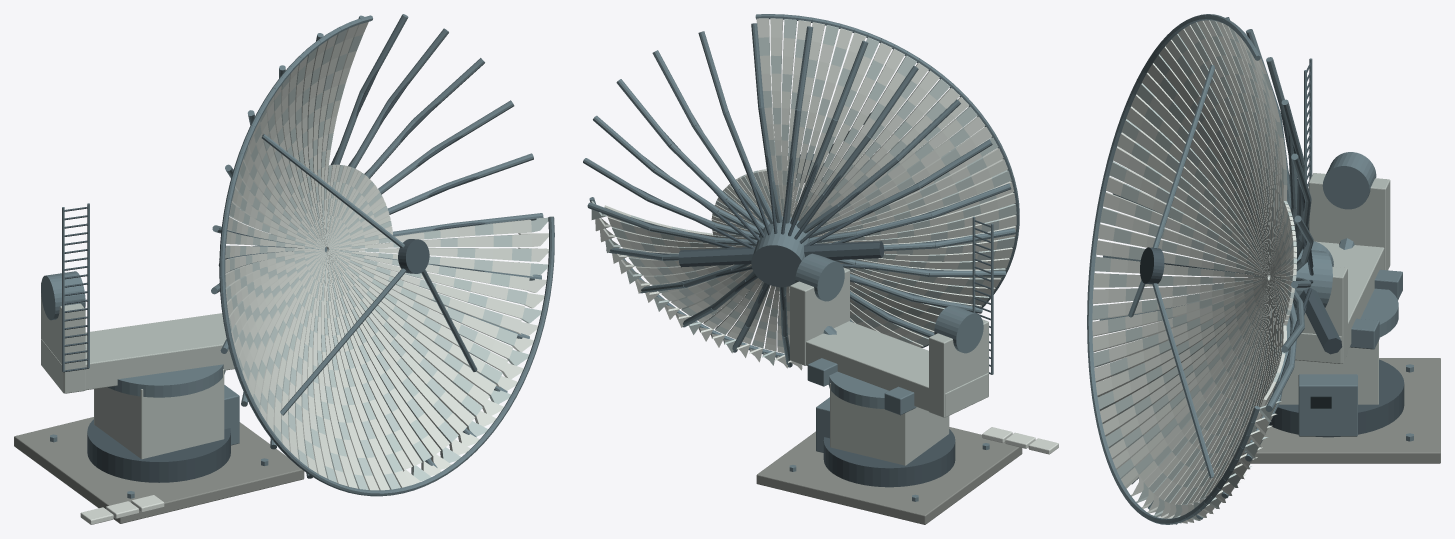
File: skyward_high_d3.glb
3 renders of one model, left to right at view 1: azimuth 30°, elevation 25°; view 2: azimuth 150°, elevation 25°; view 3: azimuth 270°, elevation 25°, orthographic. The views are drawn at different scales.
Parts seen in each view (by area): view 1: Geometry_ELEVATION.011_Reflector / warm ceramic, Geometry_ELEVATION.011_Reflector / alternate panel, Geometry_ELEVATION.011_Structural frame / blue steel, Concrete octagonal pad.011, Geometry_AZIMUTH.011_Ceramic armor / limestone, Pedestal.011, Geometry_AZIMUTH.011_Structural frame / blue steel, Foundation bearing.011, Geometry_ELEVATION.011_Edge metal / graphite, Geometry_AZIMUTH.011_Edge metal / graphite, Geometry_ROOT.011_Reflector / warm ceramic, Geometry_ROOT.011_Structural frame / blue steel; view 2: Geometry_ELEVATION.011_Reflector / warm ceramic, Geometry_ELEVATION.011_Structural frame / blue steel, Geometry_ELEVATION.011_Reflector / alternate panel, Geometry_AZIMUTH.011_Ceramic armor / limestone, Concrete octagonal pad.011, Geometry_ELEVATION.011_Edge metal / graphite, Geometry_AZIMUTH.011_Structural frame / blue steel, Pedestal.011, Foundation bearing.011, Geometry_ROOT.011_Reflector / warm ceramic, Geometry_ROOT.011_Structural frame / blue steel, Geometry_AZIMUTH.011_Edge metal / graphite; view 3: Geometry_ELEVATION.011_Reflector / warm ceramic, Geometry_ELEVATION.011_Reflector / alternate panel, Geometry_ELEVATION.011_Structural frame / blue steel, Geometry_AZIMUTH.011_Ceramic armor / limestone, Concrete octagonal pad.011, Geometry_AZIMUTH.011_Structural frame / blue steel, Geometry_ROOT.011_Structural frame / blue steel, Geometry_ELEVATION.011_Edge metal / graphite, Foundation bearing.011, Pedestal.011.
Part boxes in pixels (<box>): Geometry_ELEVATION.011_Reflector / warm ceramic: <box>225,22,548,490</box>; Geometry_ELEVATION.011_Reflector / alternate panel: <box>225,29,548,489</box>; Geometry_ELEVATION.011_Structural frame / blue steel: <box>211,14,554,496</box>; Concrete octagonal pad.011: <box>14,417,304,523</box>; Geometry_AZIMUTH.011_Ceramic armor / limestone: <box>41,283,234,393</box>; Pedestal.011: <box>94,369,224,459</box>; Geometry_AZIMUTH.011_Structural frame / blue steel: <box>41,203,268,397</box>; Foundation bearing.011: <box>87,419,230,482</box>; Geometry_ELEVATION.011_Edge metal / graphite: <box>218,67,486,316</box>; Geometry_AZIMUTH.011_Edge metal / graphite: <box>63,207,88,372</box>; Geometry_ROOT.011_Reflector / warm ceramic: <box>80,495,164,524</box>; Geometry_ROOT.011_Structural frame / blue steel: <box>50,385,268,498</box>; Geometry_ELEVATION.011_Reflector / warm ceramic: <box>595,18,1016,370</box>; Geometry_ELEVATION.011_Structural frame / blue steel: <box>583,14,1019,367</box>; Geometry_ELEVATION.011_Reflector / alternate panel: <box>591,19,1016,365</box>; Geometry_AZIMUTH.011_Ceramic armor / limestone: <box>790,267,988,417</box>; Concrete octagonal pad.011: <box>756,427,1022,524</box>; Geometry_ELEVATION.011_Edge metal / graphite: <box>636,111,949,322</box>; Geometry_AZIMUTH.011_Structural frame / blue steel: <box>795,216,993,415</box>; Pedestal.011: <box>830,383,949,465</box>; Foundation bearing.011: <box>823,429,955,487</box>; Geometry_ROOT.011_Reflector / warm ceramic: <box>982,427,1058,454</box>; Geometry_ROOT.011_Structural frame / blue steel: <box>789,397,989,501</box>; Geometry_AZIMUTH.011_Edge metal / graphite: <box>974,220,992,374</box>; Geometry_ELEVATION.011_Reflector / warm ceramic: <box>1092,20,1296,523</box>; Geometry_ELEVATION.011_Reflector / alternate panel: <box>1092,20,1296,523</box>; Geometry_ELEVATION.011_Structural frame / blue steel: <box>1087,14,1332,524</box>; Geometry_AZIMUTH.011_Ceramic armor / limestone: <box>1295,173,1390,363</box>; Concrete octagonal pad.011: <box>1251,358,1440,463</box>; Geometry_AZIMUTH.011_Structural frame / blue steel: <box>1304,58,1402,349</box>; Geometry_ROOT.011_Structural frame / blue steel: <box>1298,364,1413,441</box>; Geometry_ELEVATION.011_Edge metal / graphite: <box>1140,109,1342,392</box>; Foundation bearing.011: <box>1269,359,1404,437</box>; Pedestal.011: <box>1279,341,1378,404</box>.
Size of the model in its own units: 21.16 by 17.87 by 12.57.
